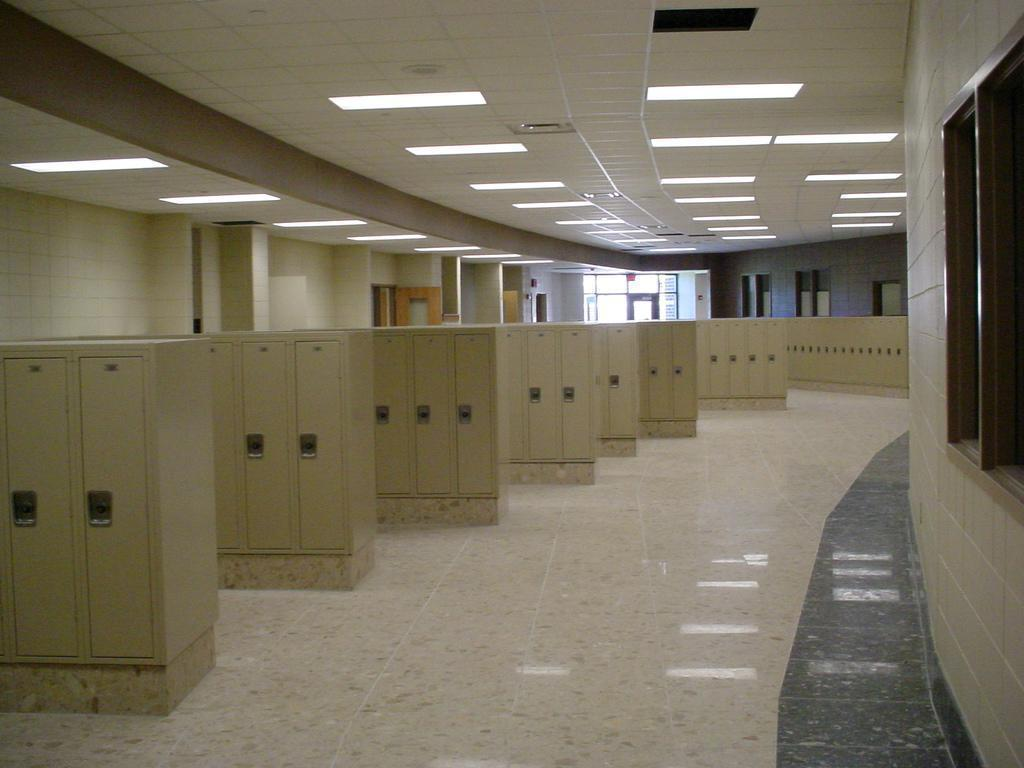Armario: (9, 342, 169, 709), (227, 336, 360, 586), (378, 333, 497, 526), (506, 329, 593, 481)
